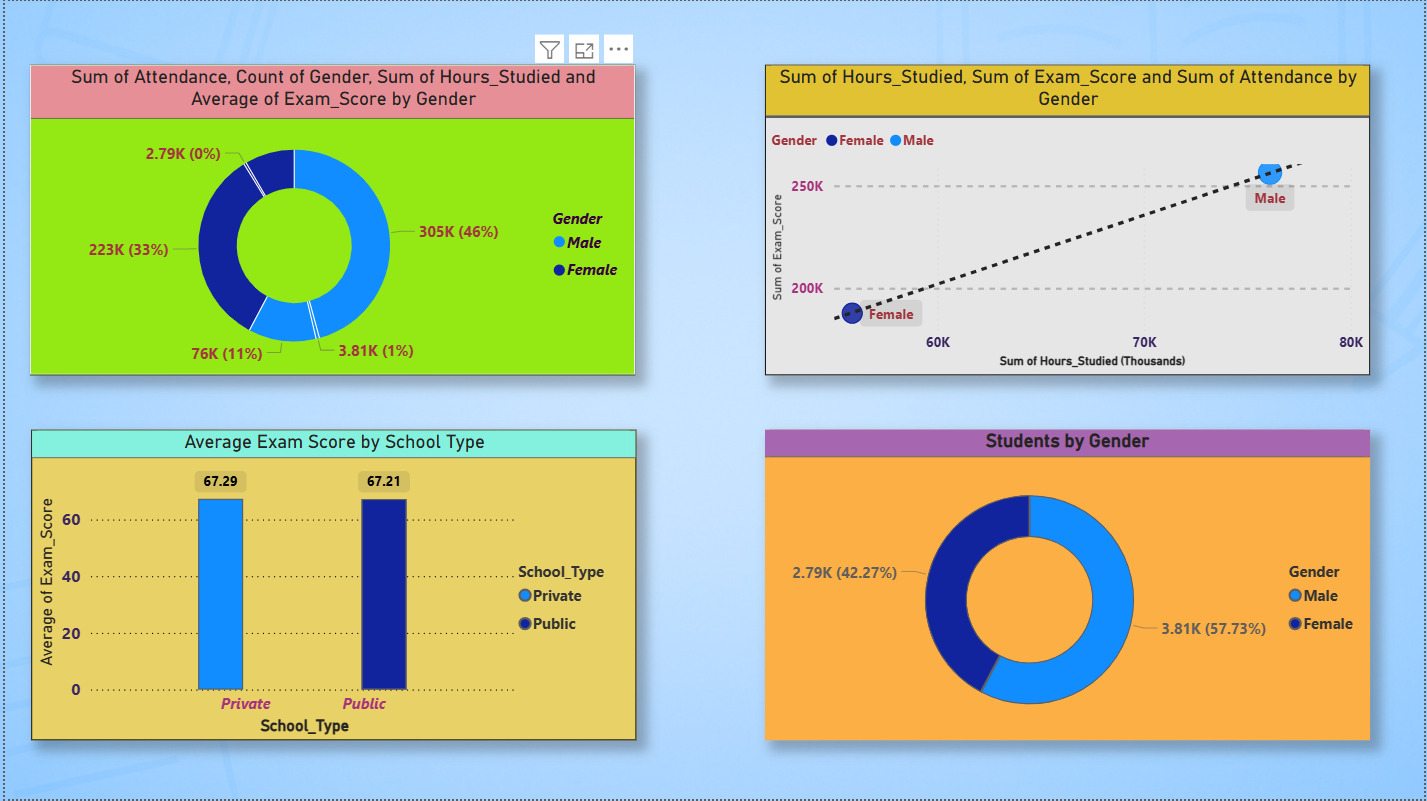

The dashboard page shown, as its layout file describes it:
{"tool":"powerbi","page":{"name":"Page 1","canvas":[1280,720],"ordinal":0},"visuals":[{"type":"donutChart","fields":{"Y":["Sum(StudentPerformanceFactors.Attendance)","CountNonNull(StudentPerformanceFactors.Gender)","Sum(StudentPerformanceFactors.Hours_Studied)","Avg(StudentPerformanceFactors.Exam_Score)"],"Category":["StudentPerformanceFactors.Gender"]},"box":[23,57.5,545.4,280],"z":0},{"type":"clusteredColumnChart","title":"Average Exam Score by School Type","fields":{"Category":["StudentPerformanceFactors.School_Type"],"Y":["Avg(StudentPerformanceFactors.Exam_Score)"],"Series":["StudentPerformanceFactors.School_Type"]},"box":[23.2,386.4,545.4,280],"z":1000},{"type":"scatterChart","fields":{"X":["Sum(StudentPerformanceFactors.Hours_Studied)"],"Y":["Sum(StudentPerformanceFactors.Exam_Score)"],"Series":["StudentPerformanceFactors.Gender"],"Size":["Sum(StudentPerformanceFactors.Attendance)"]},"box":[684.8,57.5,545.4,280],"z":2000},{"type":"donutChart","title":"Students by Gender","fields":{"Category":["StudentPerformanceFactors.Gender"],"Y":["CountNonNull(StudentPerformanceFactors.Gender)"]},"box":[684.8,386.4,545.4,280],"z":3000}]}

Visuals, with their boxes in screenshot pixels (x1, y1, x2, y2), scaled from the page's 1280x720 canvas onto the 1427x801 screenshot:
donutChart - Sum(StudentPerformanceFactors.Attendance) x CountNonNull(StudentPerformanceFactors.Gender): pyautogui.locateOnScreen(26, 64, 634, 375)
"Average Exam Score by School Type" clusteredColumnChart: pyautogui.locateOnScreen(26, 430, 634, 741)
scatterChart - Sum(StudentPerformanceFactors.Hours_Studied) x Sum(StudentPerformanceFactors.Exam_Score): pyautogui.locateOnScreen(763, 64, 1371, 375)
"Students by Gender" donutChart: pyautogui.locateOnScreen(763, 430, 1371, 741)
